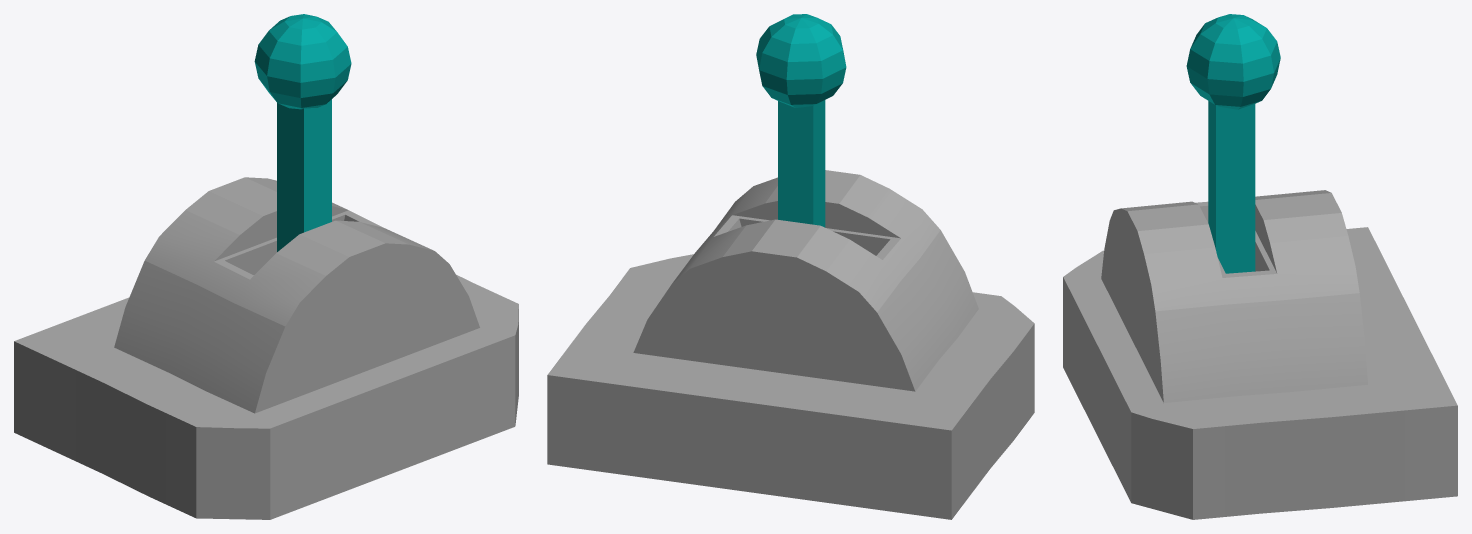
The model's file is _ANM_PillarRotateHandle.fbx.
The picture shows the model from 3 angles, left to right: view 1: azimuth 30°, elevation 25°; view 2: azimuth 150°, elevation 25°; view 3: azimuth 270°, elevation 25°; orthographic projection. The views are drawn at different scales.
Visible parts, largest first — view 1: GearHandleStand, ANM_GearHandle; view 2: GearHandleStand, ANM_GearHandle; view 3: GearHandleStand, ANM_GearHandle.
Part boxes in pixels (x1=…): GearHandleStand: x1=14, y1=177, x2=518, y2=519; ANM_GearHandle: x1=254, y1=14, x2=351, y2=251; GearHandleStand: x1=547, y1=170, x2=1034, y2=519; ANM_GearHandle: x1=756, y1=14, x2=846, y2=227; GearHandleStand: x1=1063, y1=190, x2=1457, y2=519; ANM_GearHandle: x1=1186, y1=14, x2=1280, y2=273.
Size of the model in its own units: 4.77 by 4.48 by 3.94.
